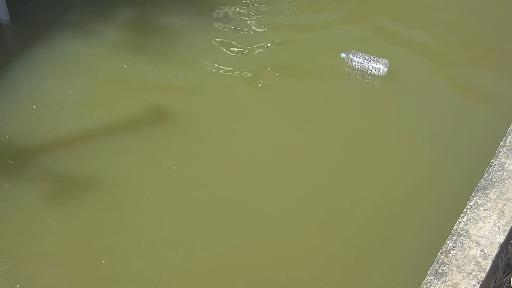plastic: (331, 34, 394, 86)
